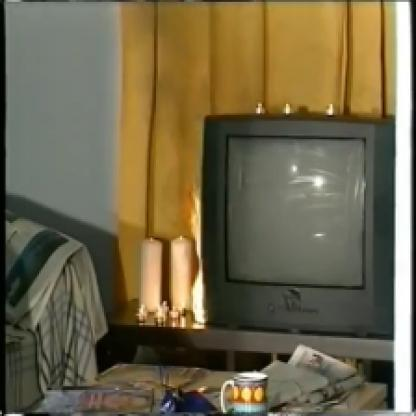fire: (185, 183, 220, 330)
